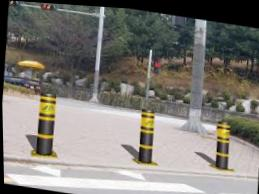Animal: (133, 100, 168, 162), (29, 84, 60, 149), (202, 114, 236, 169)
